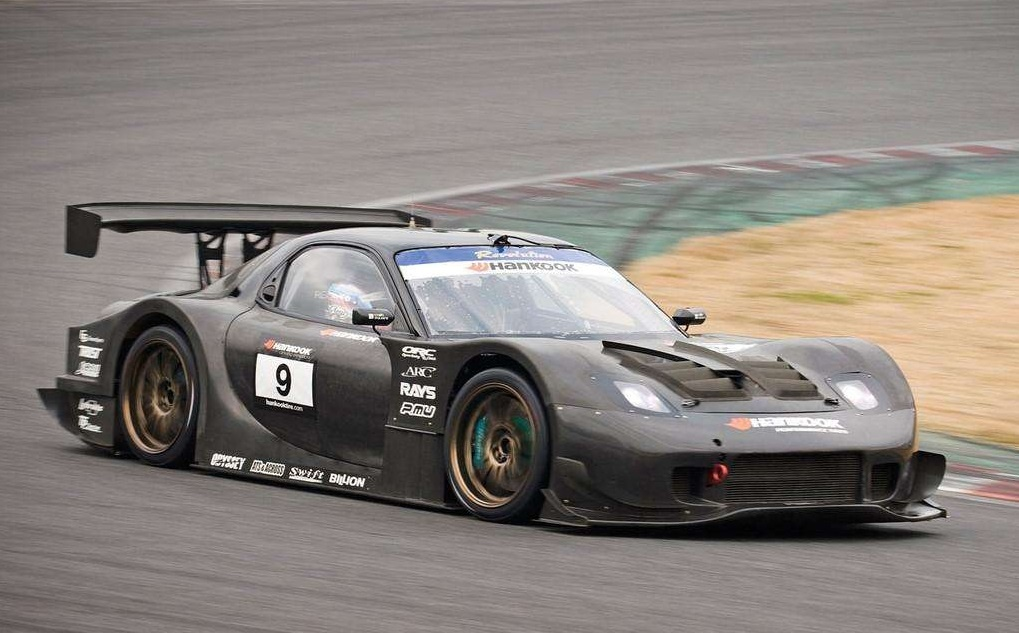racing car: (25, 178, 960, 565)
